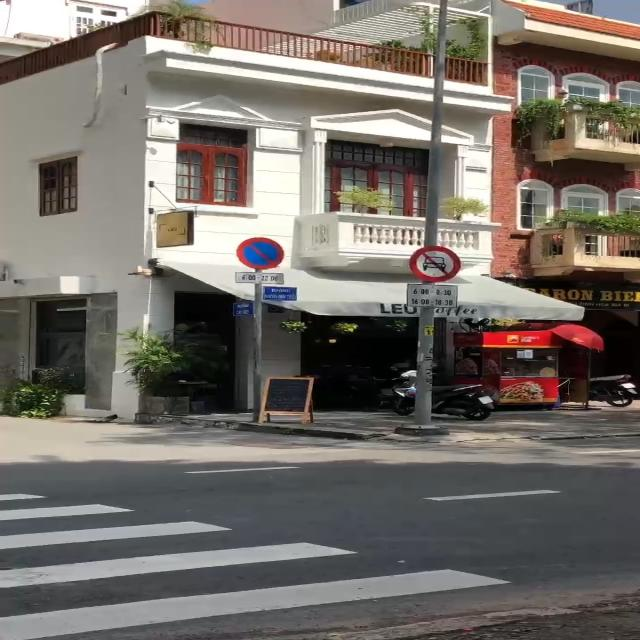Bien bao cam do xe: (236, 235, 288, 272)
Bien bao cam xe oto: (406, 243, 466, 283)
